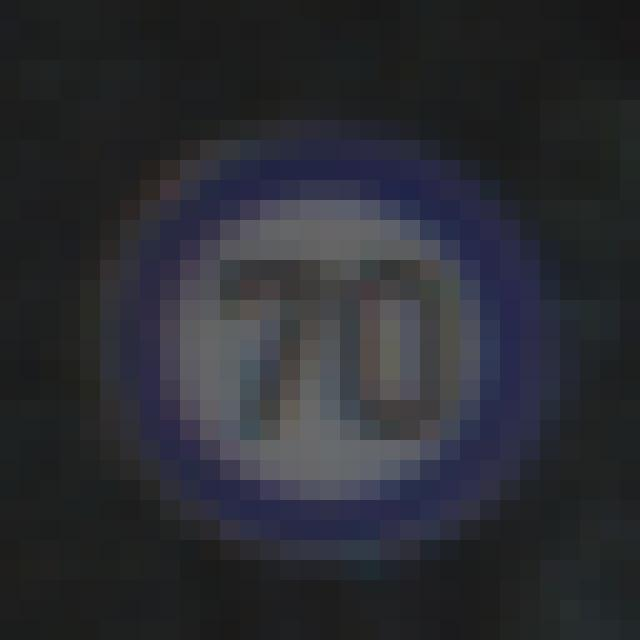SPEED LIMIT 70: (108, 149, 540, 556)
